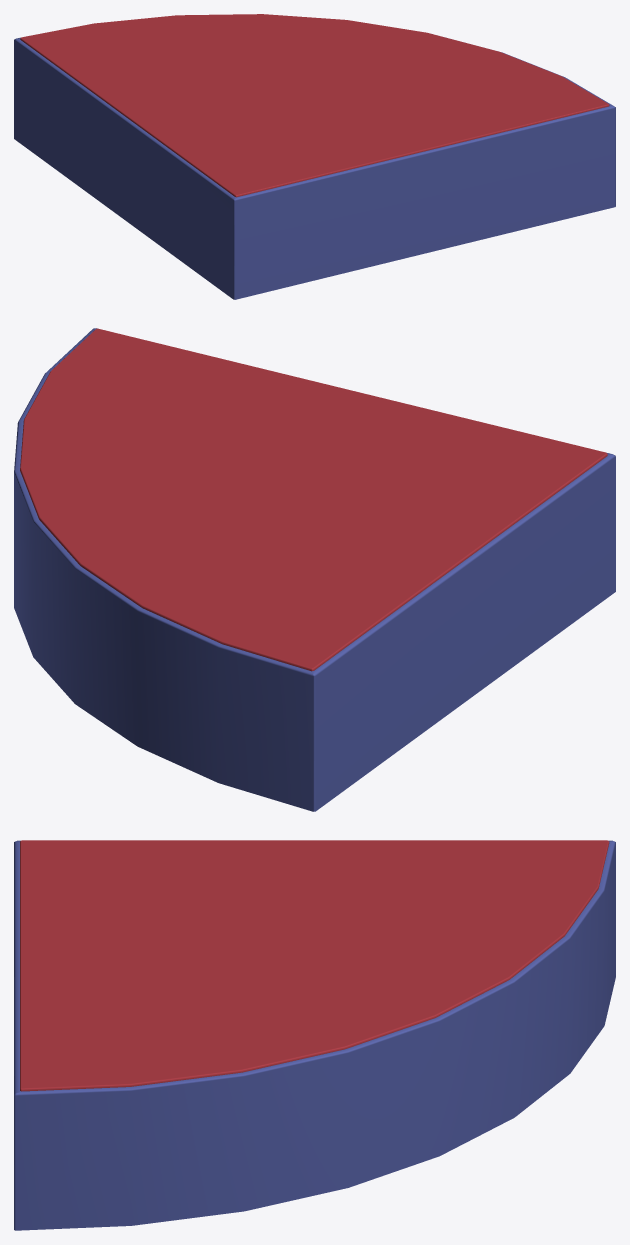
File: SM_PlatformRounded_4x4_01.fbx
3 renders of one model, top to bottom at view 1: azimuth 30°, elevation 25°; view 2: azimuth 150°, elevation 25°; view 3: azimuth 270°, elevation 25°, orthographic. The views are drawn at different scales.
Visible parts, largest first — view 1: SM_PlatformRounded_4x4_01; view 2: SM_PlatformRounded_4x4_01; view 3: SM_PlatformRounded_4x4_01.
Boxes of the visible parts, x1,y1,x2,y2 form: SM_PlatformRounded_4x4_01: (14,14,615,299); SM_PlatformRounded_4x4_01: (14,328,615,811); SM_PlatformRounded_4x4_01: (14,840,615,1230).
Size of the model in its own units: 400 by 102 by 400.
